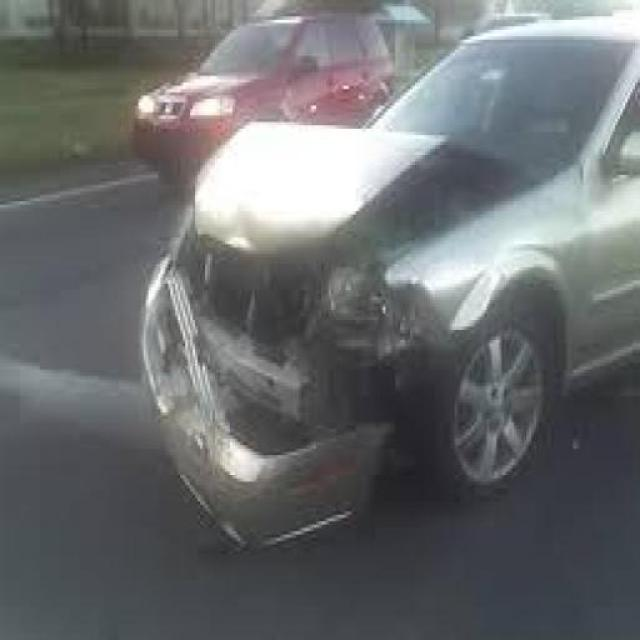crush: (135, 119, 552, 543)
